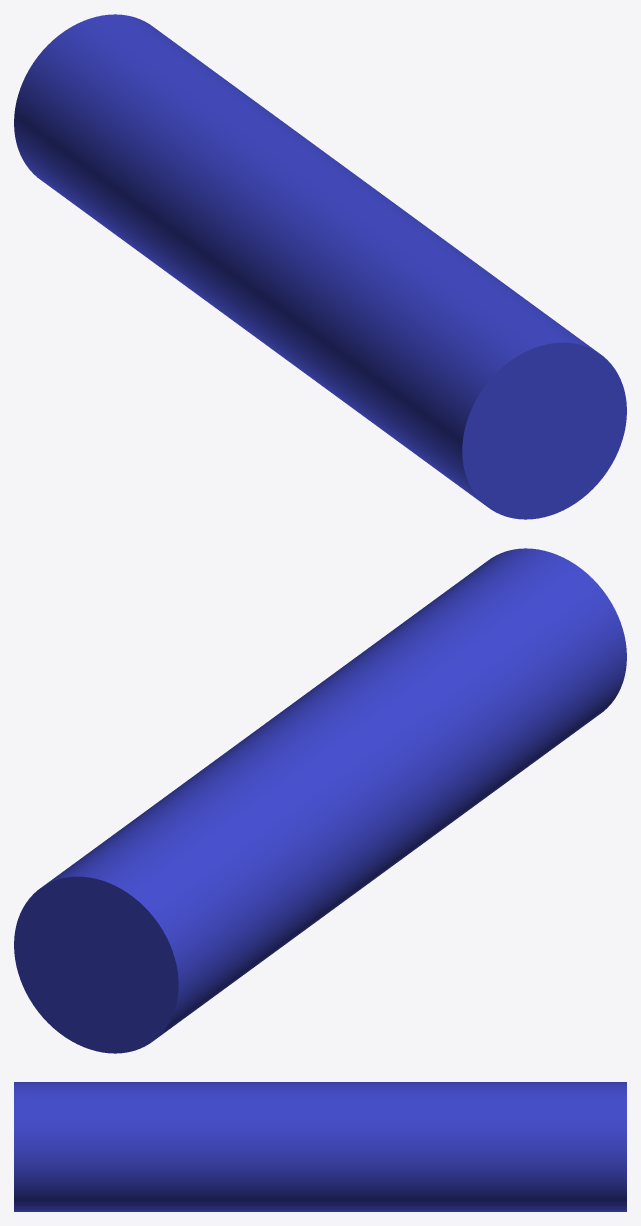
Rendered from bullet.fbx.
3 views of the same model, one above another, from view 1: azimuth 30°, elevation 25°; view 2: azimuth 150°, elevation 25°; view 3: azimuth 270°, elevation 25° (orthographic). The views are drawn at different scales.
Parts seen in each view (by area): view 1: root; view 2: root; view 3: root.
Part boxes in pixels (x1=…): root: x1=14, y1=14, x2=626, y2=519; root: x1=14, y1=548, x2=626, y2=1053; root: x1=14, y1=1082, x2=626, y2=1211.
Bounding box in the file's own units: 0.0992 × 0.0992 × 0.4675.
